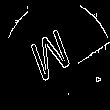M_SE: (30, 22, 80, 88)
